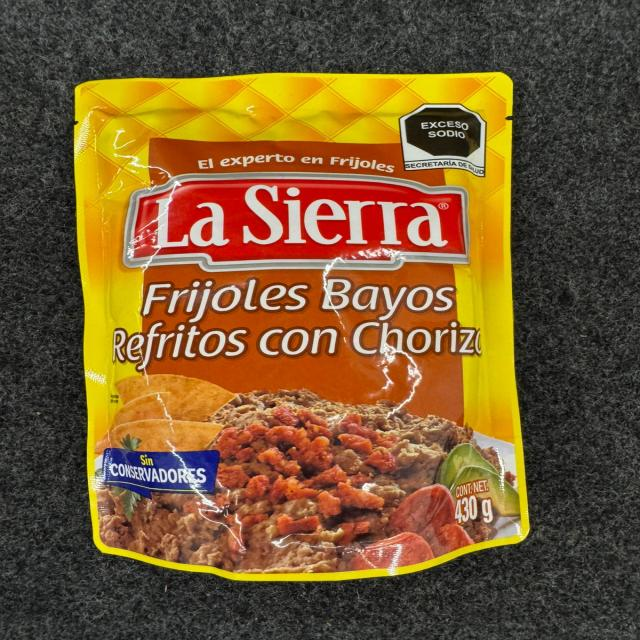Frijol La Sierra Chorizo 430 bolsa: (62, 71, 540, 583)
